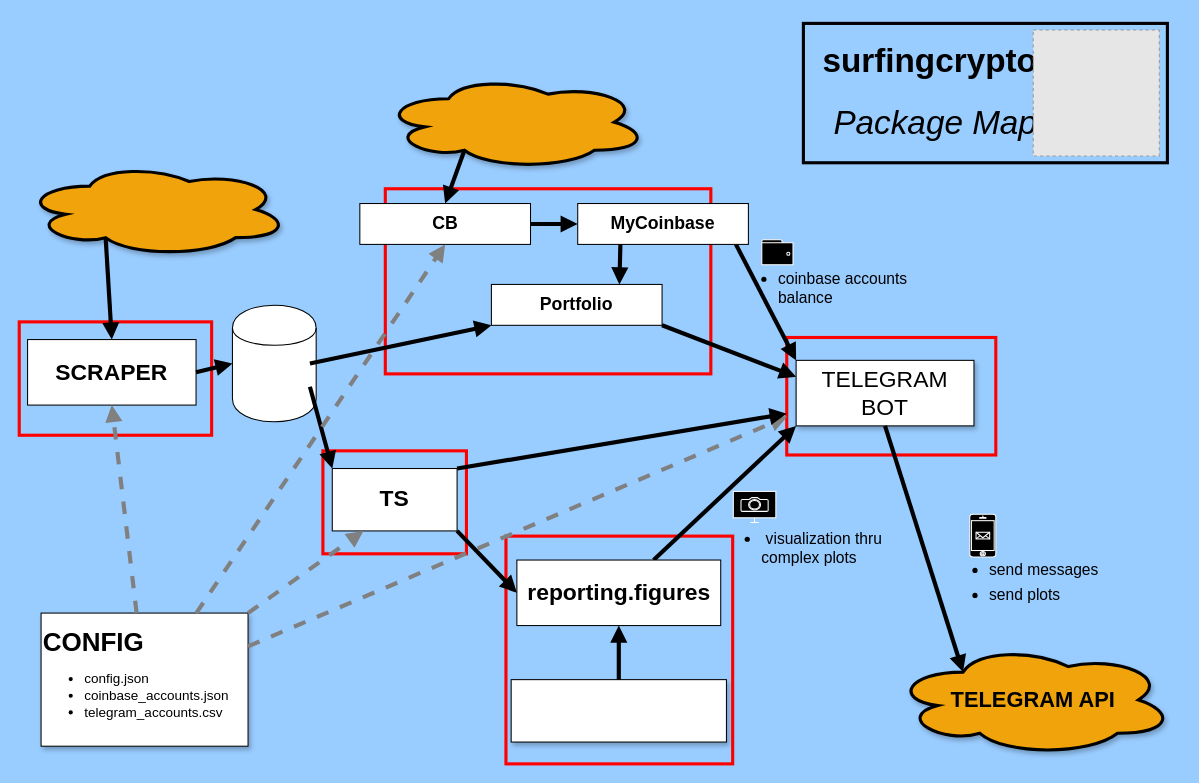
The diagram is 1199 pixels wide and 783 high, and some of its shapes have lost their labels. Grey dashed boxes stand in for pictures. Here are the shapes that lost their labels. From the top down, the centre of each, then its label:
At pixel 515 123: "COINBASE API".
At pixel 156 211: "COINMARKETCAP.COM".
At pixel 273 363: "BTC.csv".
At pixel 619 711: "reporting.plotting".
